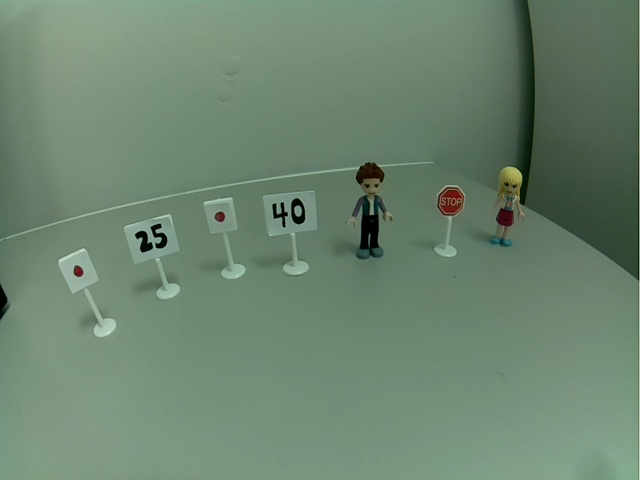people: (345, 158, 393, 263), (488, 160, 528, 249)
red light: (61, 255, 98, 290), (207, 200, 236, 233)
speed 25: (128, 222, 178, 257)
speed 40: (265, 193, 316, 230)
stop: (435, 183, 468, 220)
